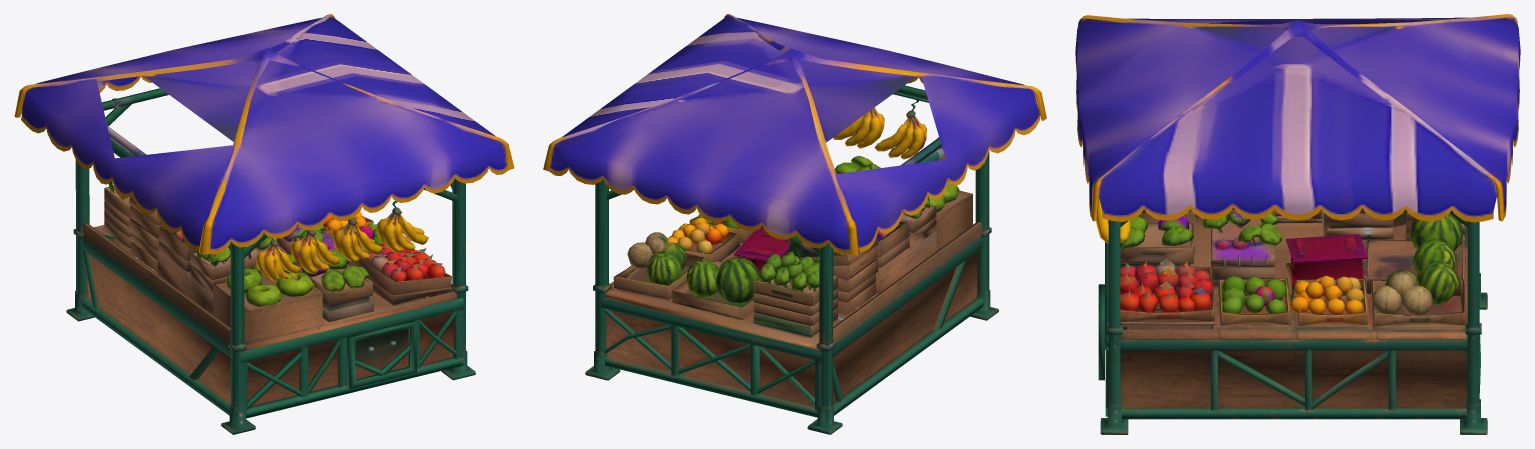
Rendered from tripo_convert_fdc8f00b-7dae-4aff-9747-996a0e3c2253.glb.
The picture shows the model from 3 angles, left to right: view 1: azimuth 30°, elevation 25°; view 2: azimuth 150°, elevation 25°; view 3: azimuth 270°, elevation 25°; orthographic projection. The views are drawn at different scales.
Visible parts, largest first — view 1: tripo_node_fdc8f00b-7dae-4aff-9747-996a0e3c2253; view 2: tripo_node_fdc8f00b-7dae-4aff-9747-996a0e3c2253; view 3: tripo_node_fdc8f00b-7dae-4aff-9747-996a0e3c2253.
Part boxes in pixels (box(x1,y1,x2,y2)): tripo_node_fdc8f00b-7dae-4aff-9747-996a0e3c2253: box(14, 14, 514, 434); tripo_node_fdc8f00b-7dae-4aff-9747-996a0e3c2253: box(543, 14, 1046, 434); tripo_node_fdc8f00b-7dae-4aff-9747-996a0e3c2253: box(1075, 14, 1520, 434).
Bounding box in the file's own units: 0.9614 × 0.8521 × 0.9995.
Materials: 1 (1 with a texture image).
